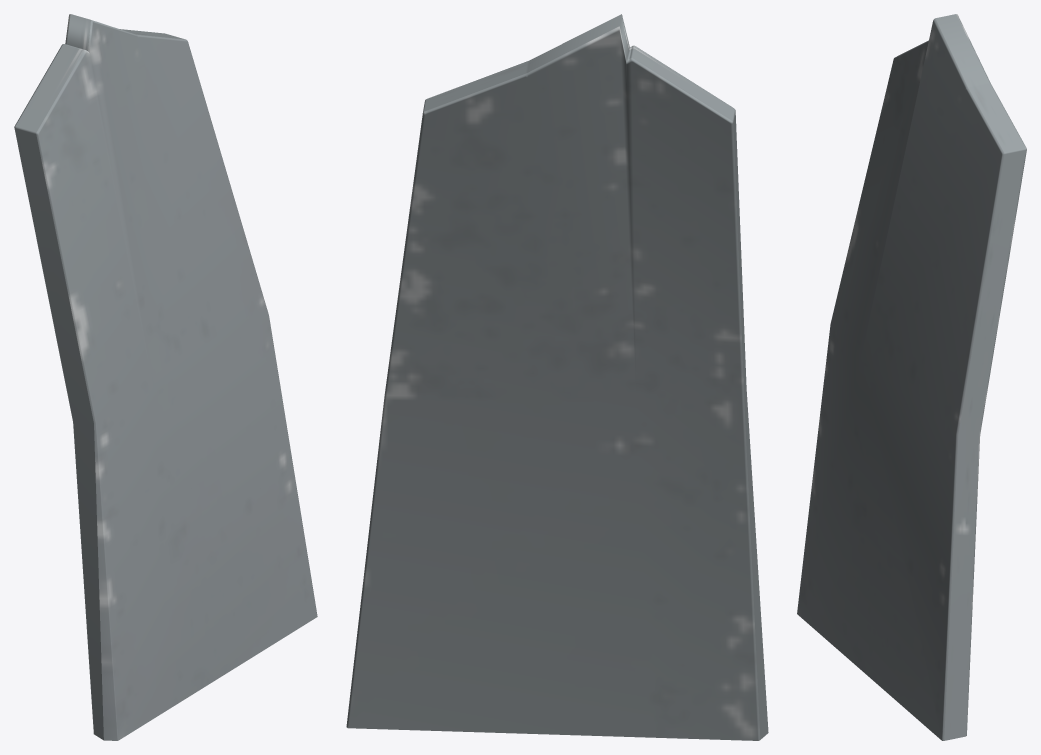
Rendered from verre_brisee_morceau_3.fbx.
3 views of the same model, side by side, from view 1: azimuth 30°, elevation 25°; view 2: azimuth 150°, elevation 25°; view 3: azimuth 270°, elevation 25° (orthographic). The views are drawn at different scales.
Parts seen in each view (by area): view 1: polySurface55; view 2: polySurface55; view 3: polySurface55.
Part boxes in pixels (bbox=[...]): polySurface55: bbox=[14, 14, 317, 740]; polySurface55: bbox=[346, 14, 768, 740]; polySurface55: bbox=[797, 14, 1026, 740].
Bounding box in the file's own units: 0.0217 × 0.043 × 0.0145.
